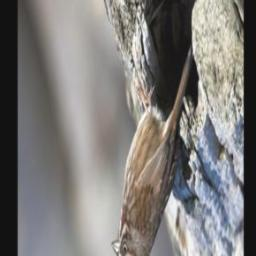Sparrow: (110, 43, 192, 256)
